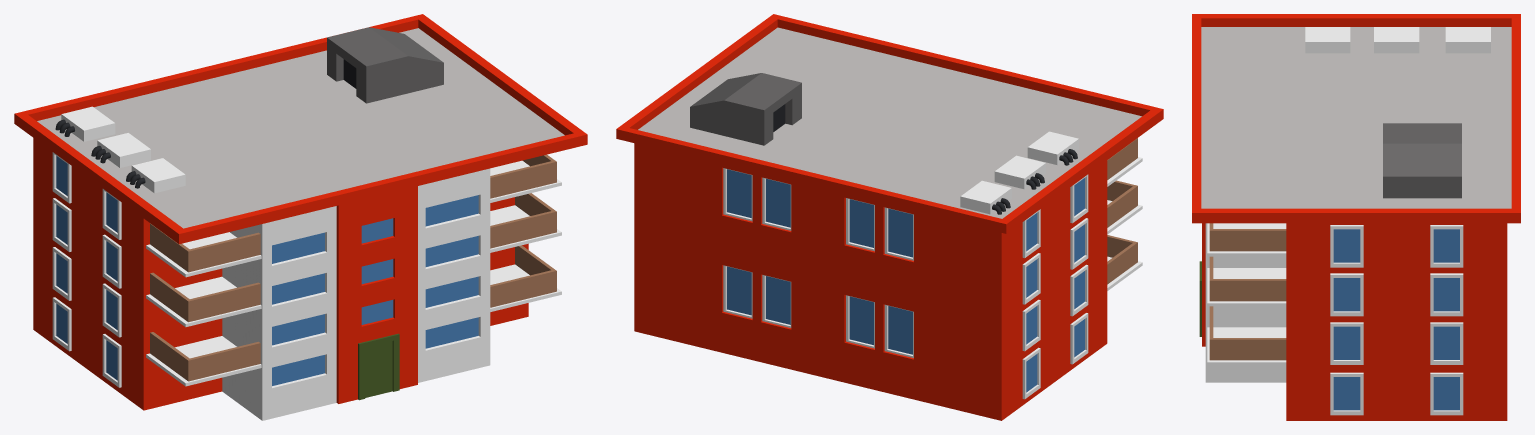
The model's file is Apartment_5.fbx.
3 renders of one model, left to right at view 1: azimuth 30°, elevation 25°; view 2: azimuth 150°, elevation 25°; view 3: azimuth 270°, elevation 25°, orthographic. The views are drawn at different scales.
Visible parts, largest first — view 1: Apartment_5; view 2: Apartment_5; view 3: Apartment_5.
Part boxes in pixels (bbox=[...]): Apartment_5: bbox=[14, 14, 587, 420]; Apartment_5: bbox=[616, 14, 1163, 420]; Apartment_5: bbox=[1192, 14, 1520, 420].
Size of the model in its own units: 1952 by 1107 by 1362.
